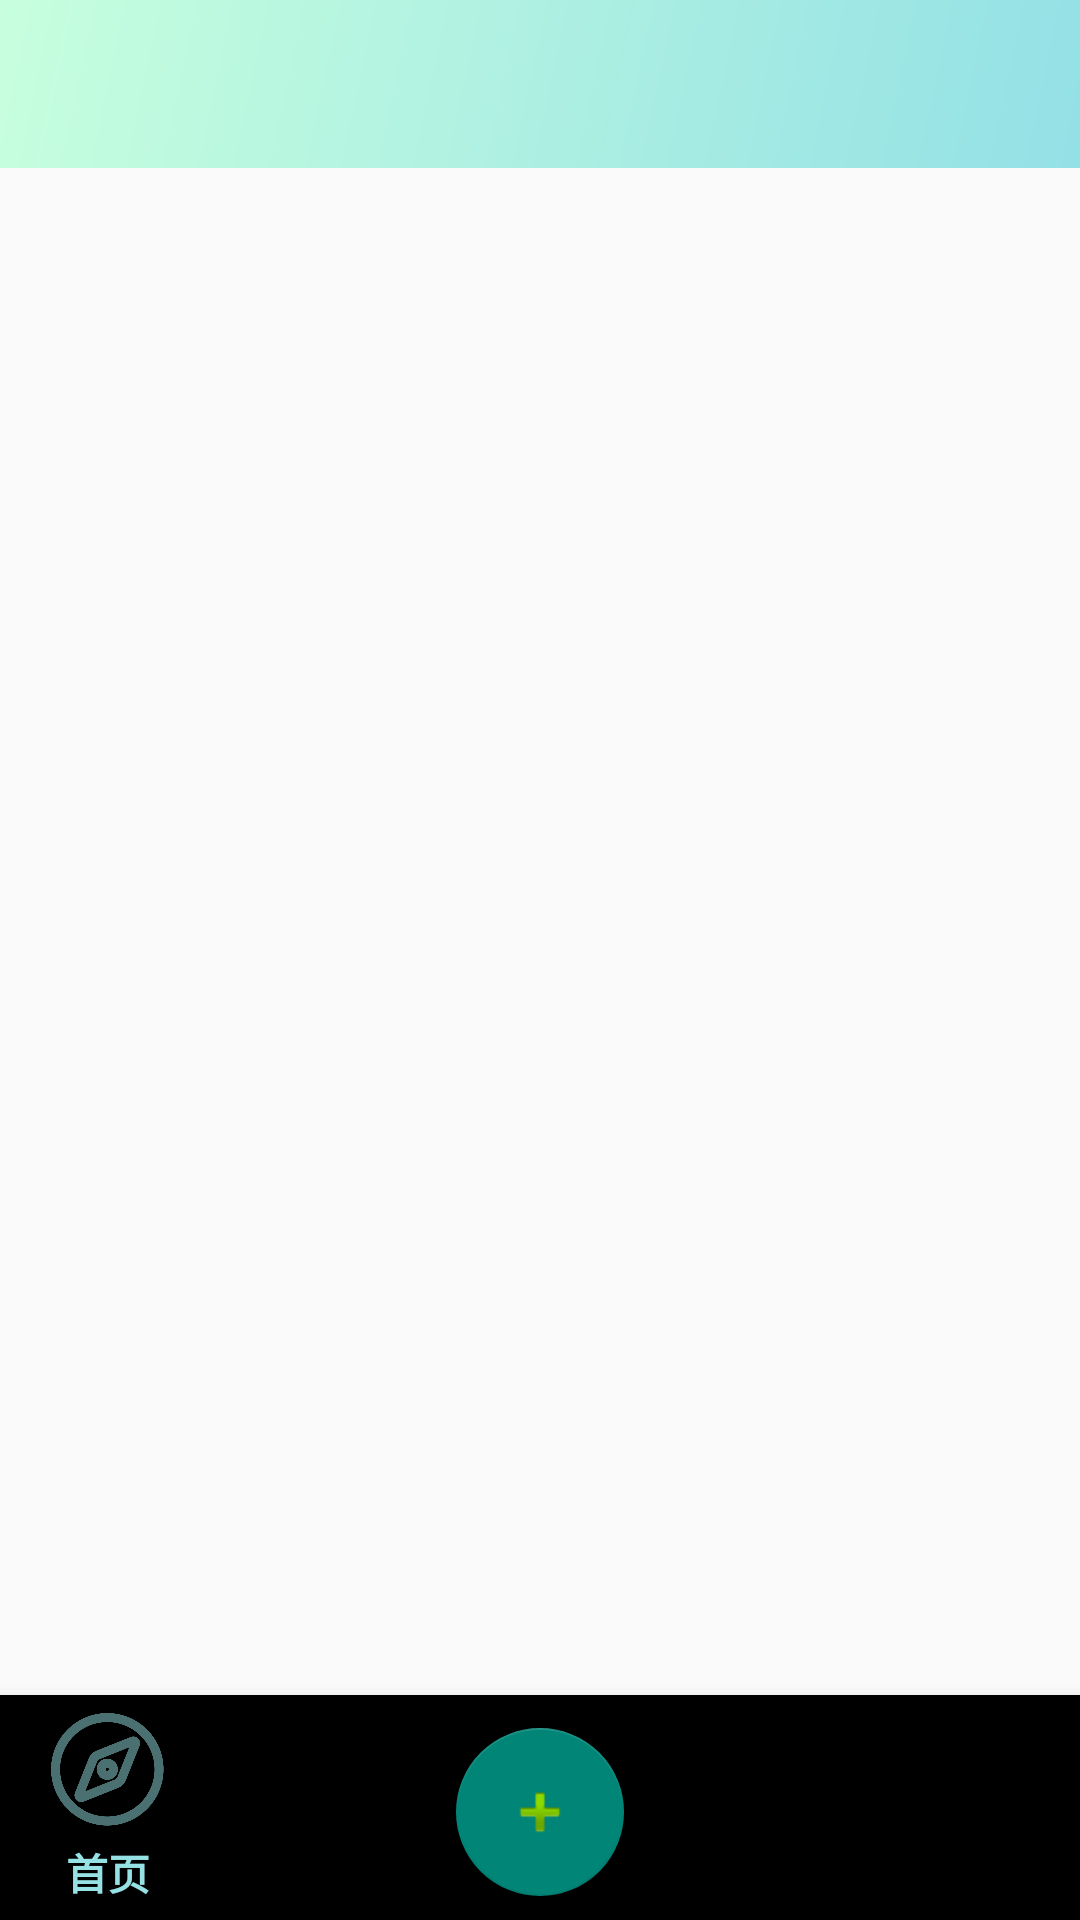

Named icons in this screenshot (1080 x 1920) and their centers, point (x, y):
add: point (540, 1812)
